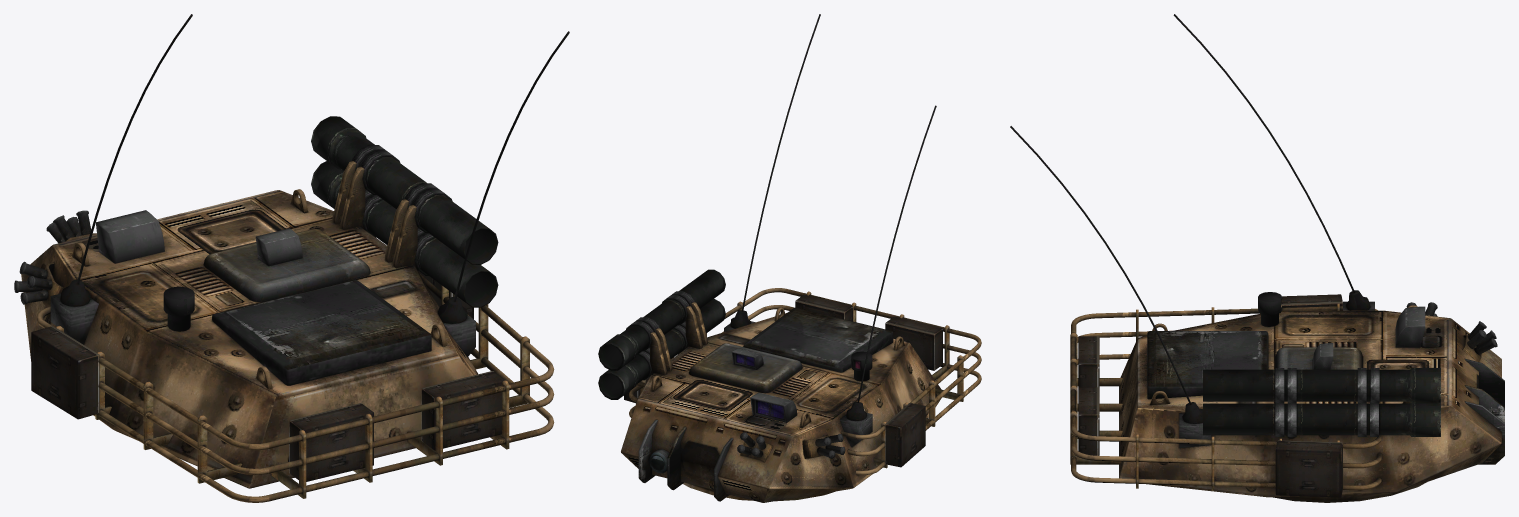
The model's file is APC_turret.obj.
3 views of the same model, side by side, from view 1: azimuth 30°, elevation 25°; view 2: azimuth 150°, elevation 25°; view 3: azimuth 270°, elevation 25° (orthographic). The views are drawn at different scales.
Visible parts, largest first — view 1: turret01; view 2: turret01; view 3: turret01.
Boxes of the visible parts, x1,y1,x2,y2 form: turret01: [14, 14, 569, 502]; turret01: [598, 14, 981, 502]; turret01: [1010, 14, 1504, 502].
Size of the model in its own units: 5.44 by 6.09 by 7.24.
Materials: 2 (2 with a texture image).
